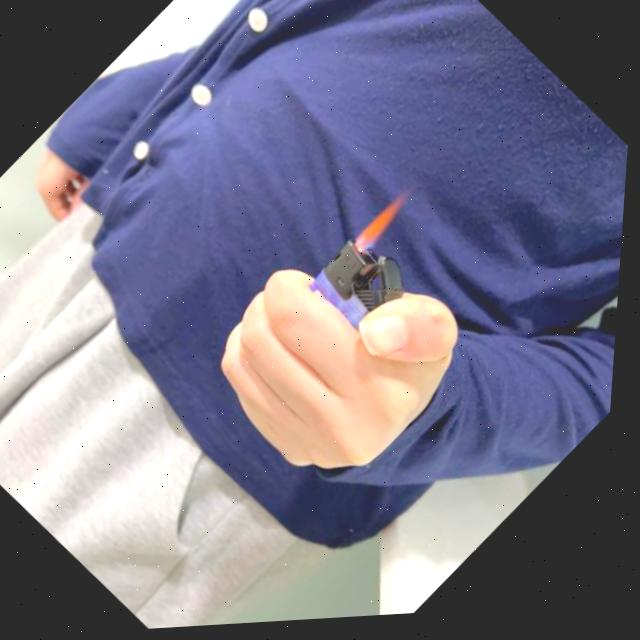Fire: (355, 198, 416, 260)
